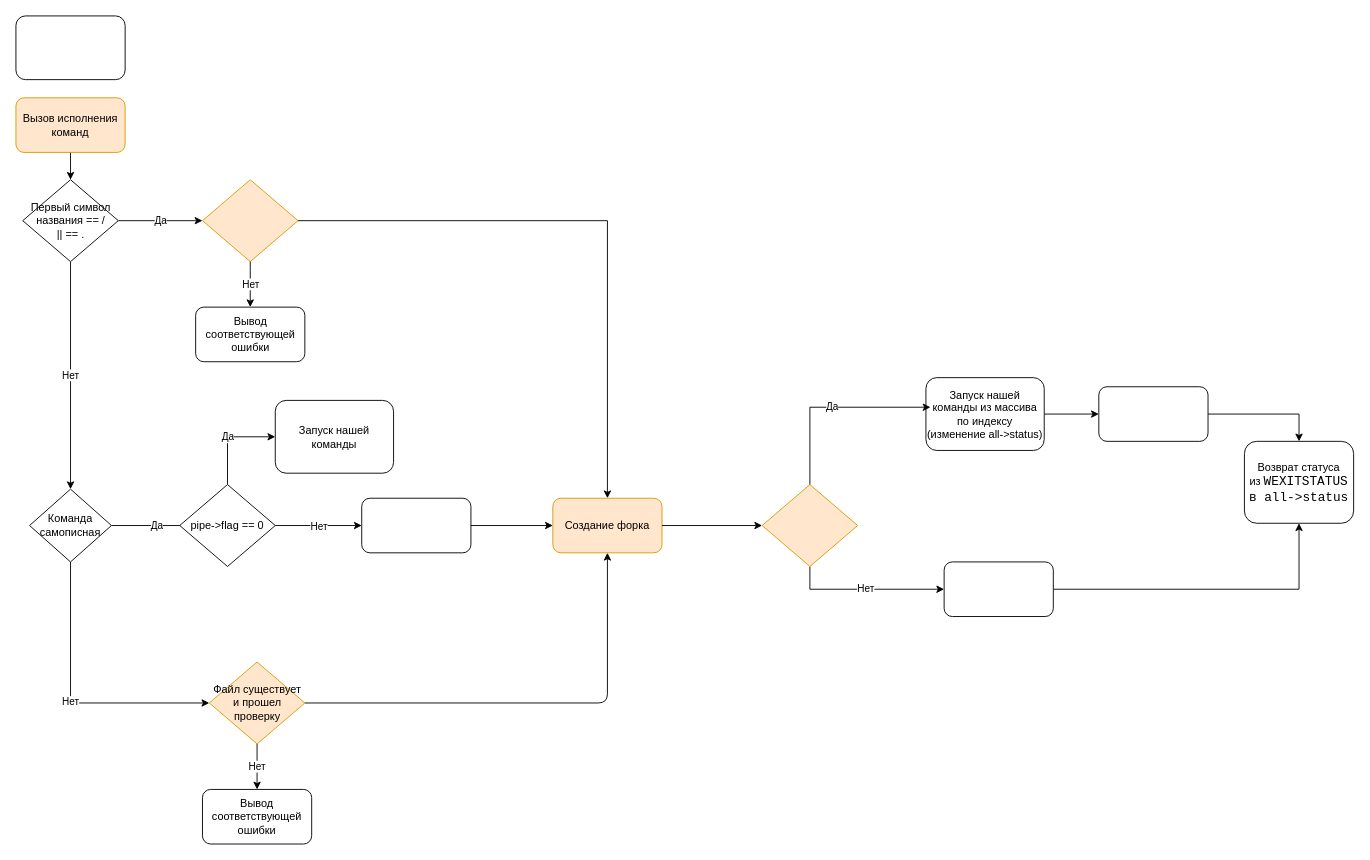
The diagram is 1370 pixels wide and 860 high, and some of its shapes have lost their labels. Here are the shapes that lost their labels. From the top down, the centre of each, then its label:
point 70,47: Инициализация массива указателей на наши функции (семь элементов)
point 250,220: Файл прошел проверку
point 1153,413: exit (all->status)
point 416,525: Сохранение указателя на функцию
point 809,525: Команда наша?
point 998,589: Запуск execve
